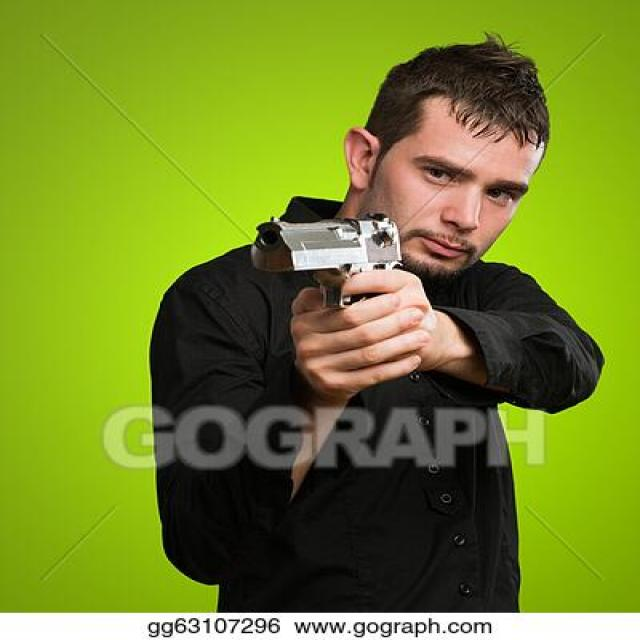HandGun: (251, 214, 403, 308)
